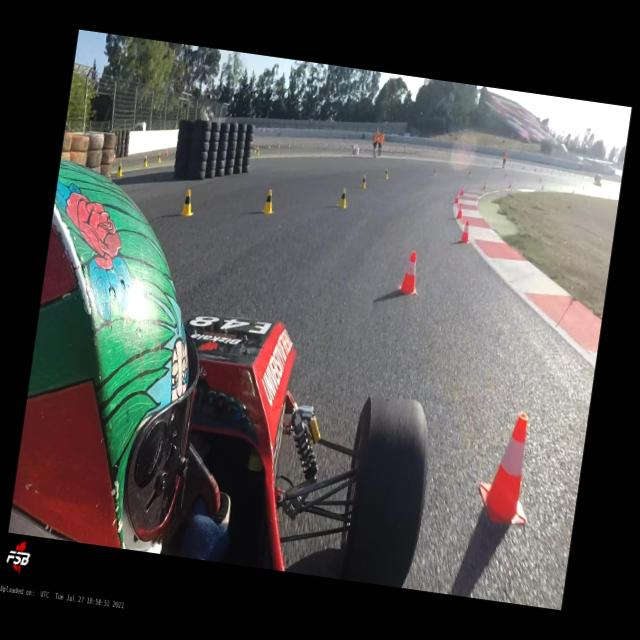orange_cone: (474, 408, 542, 530), (397, 250, 421, 296), (459, 220, 471, 243), (456, 202, 465, 220), (454, 192, 460, 204), (460, 186, 466, 196), (483, 182, 487, 190), (113, 154, 116, 162), (508, 182, 512, 188), (165, 149, 168, 156)
yellow_cone: (180, 188, 197, 217), (261, 188, 277, 215), (336, 188, 350, 208), (116, 162, 125, 178), (360, 175, 368, 189), (384, 168, 390, 180), (256, 146, 262, 156), (157, 152, 162, 162), (144, 155, 148, 167), (252, 144, 256, 154), (432, 170, 437, 177), (468, 172, 471, 178), (504, 174, 507, 180)
